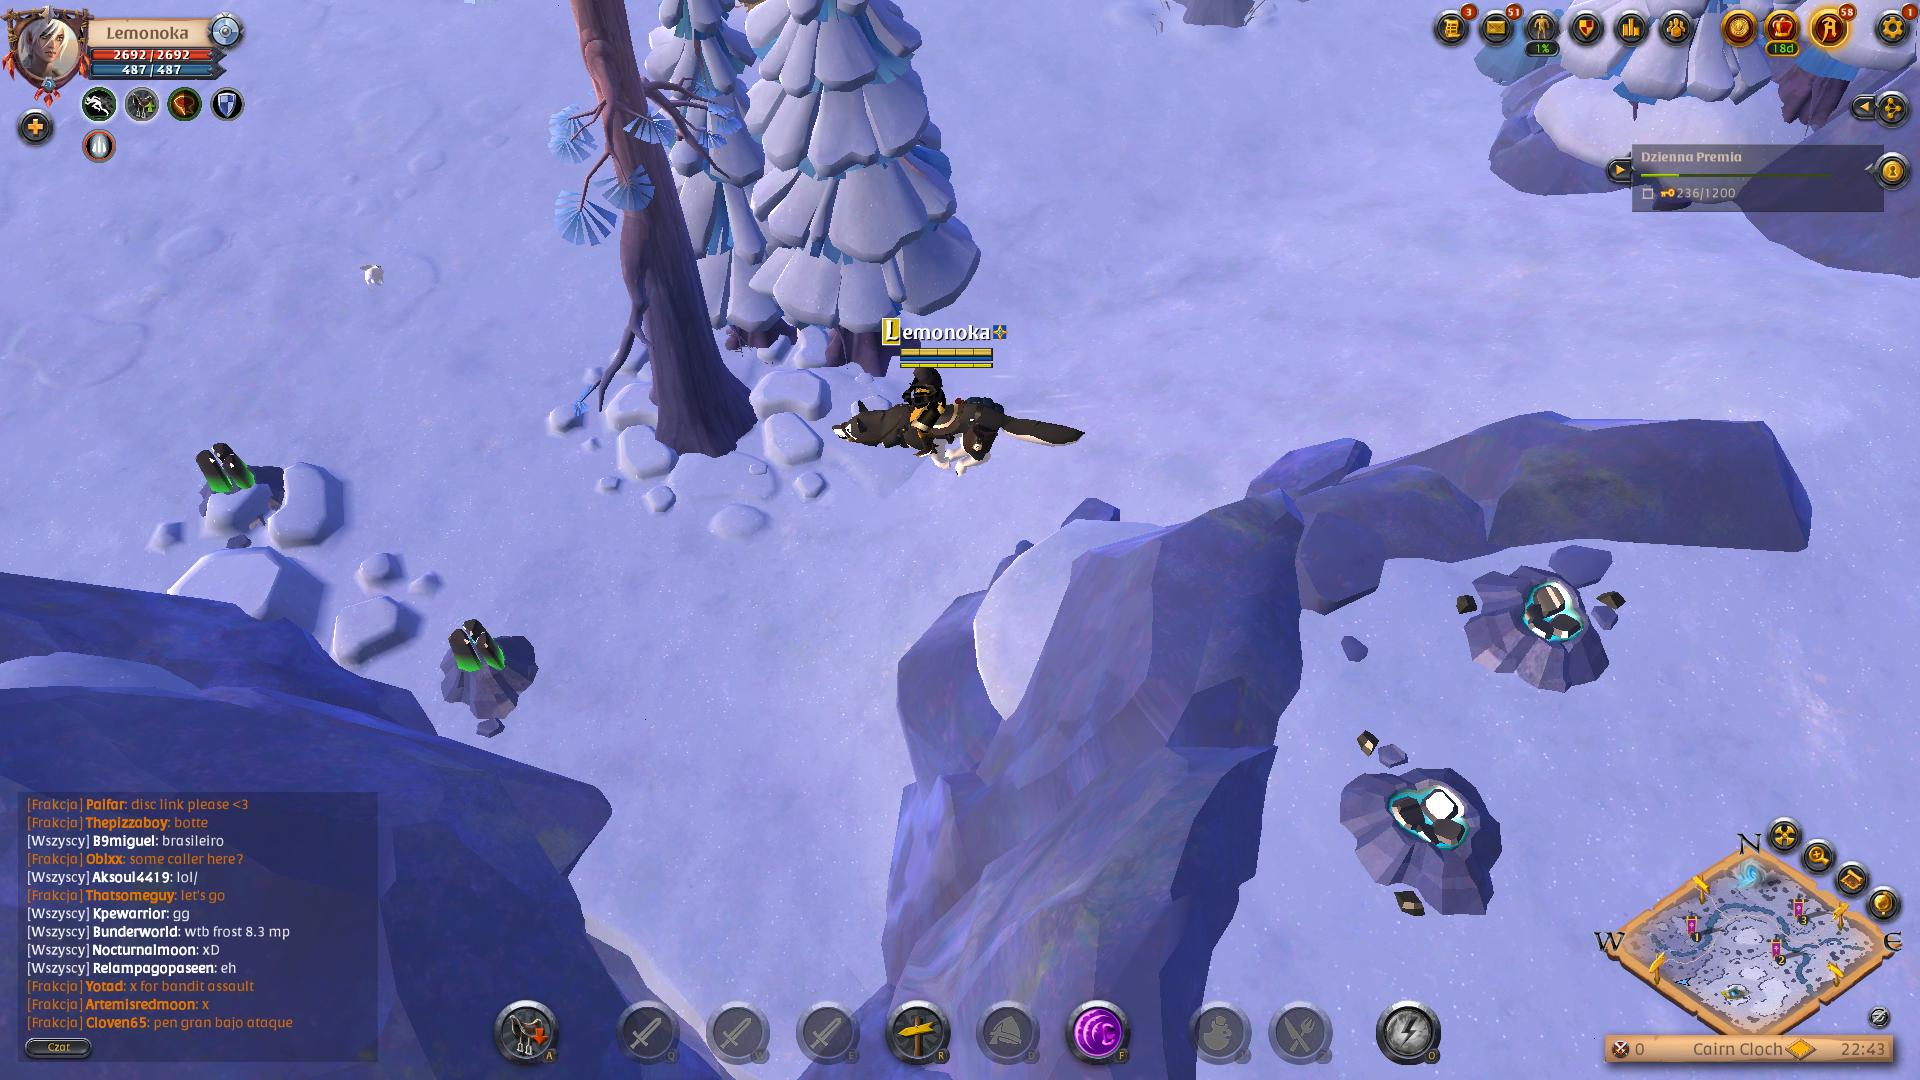ore tier 3: (186, 436, 295, 553), (436, 620, 551, 729)
